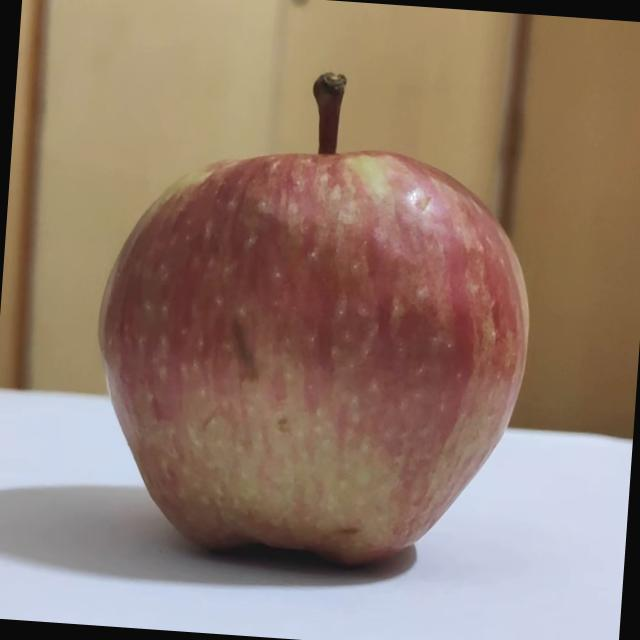apple: (74, 57, 560, 589)
